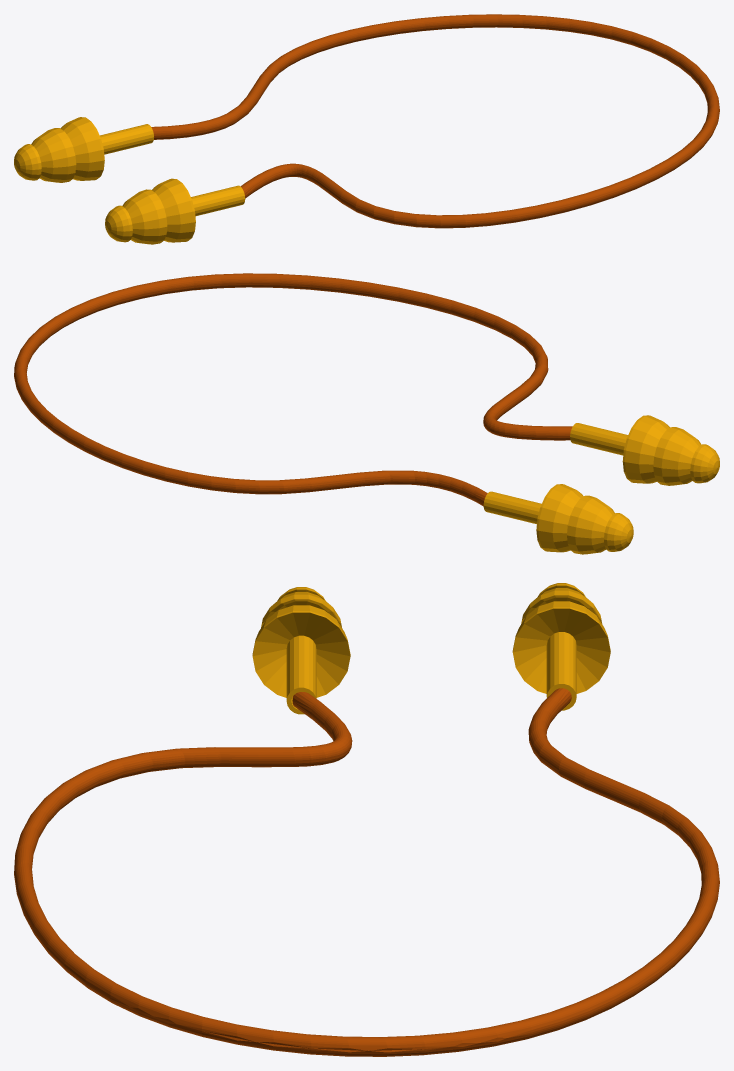
The model's file is protetor_ouvido.gltf.
The picture shows the model from 3 angles, top to bottom: view 1: azimuth 30°, elevation 25°; view 2: azimuth 150°, elevation 25°; view 3: azimuth 270°, elevation 25°; orthographic projection. The views are drawn at different scales.
Parts seen in each view (by area): view 1: ear 1; view 2: ear 1; view 3: ear 1.
Part boxes in pixels (bbox=[...]): ear 1: bbox=[14, 14, 719, 244]; ear 1: bbox=[14, 273, 719, 554]; ear 1: bbox=[14, 583, 719, 1056].
Bounding box in the file's own units: 0.1393 × 0.0126 × 0.092.
